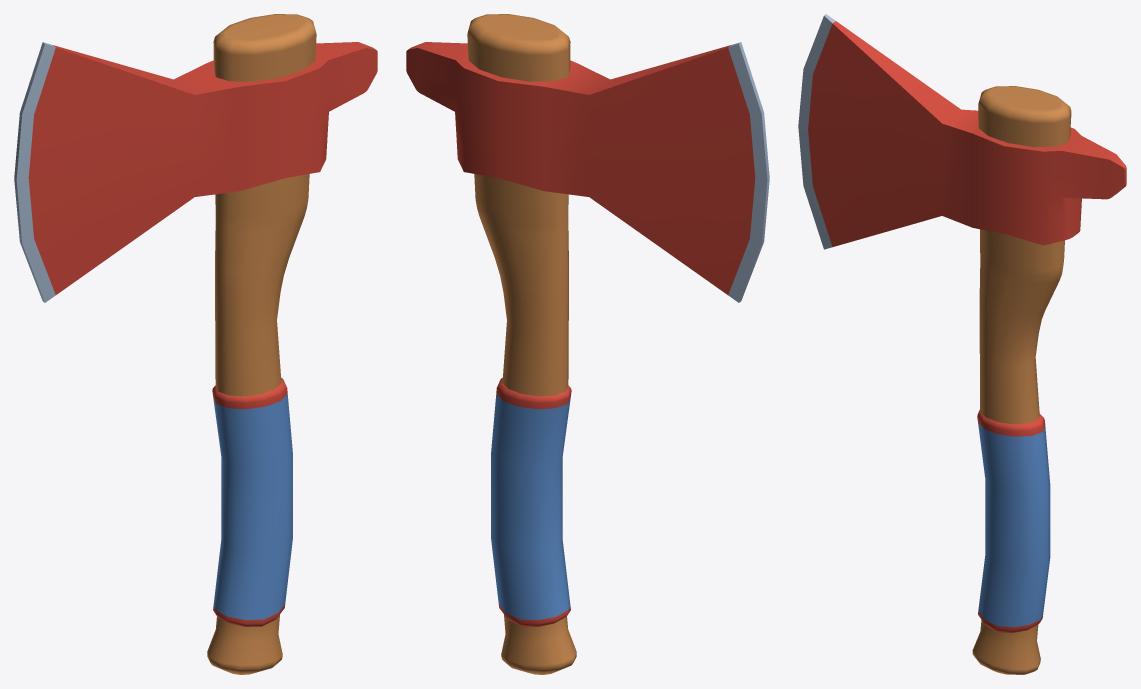
The model's file is Axe.fbx.
3 views of the same model, side by side, from view 1: azimuth 30°, elevation 25°; view 2: azimuth 150°, elevation 25°; view 3: azimuth 330°, elevation 25° (orthographic). The views are drawn at different scales.
Parts seen in each view (by area): view 1: Circle; view 2: Circle; view 3: Circle.
Part boxes in pixels (x1,y1,x2,y2): Circle: (14, 14, 377, 674); Circle: (406, 14, 769, 674); Circle: (798, 14, 1126, 674).
Size of the model in its own units: 44.29 by 79.31 by 9.32.
